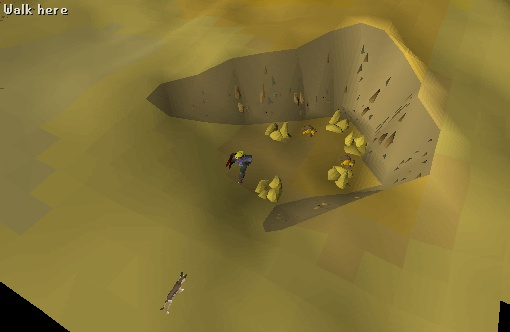gold: (250, 173, 292, 208), (323, 159, 361, 197), (320, 106, 354, 138), (261, 117, 294, 147)
